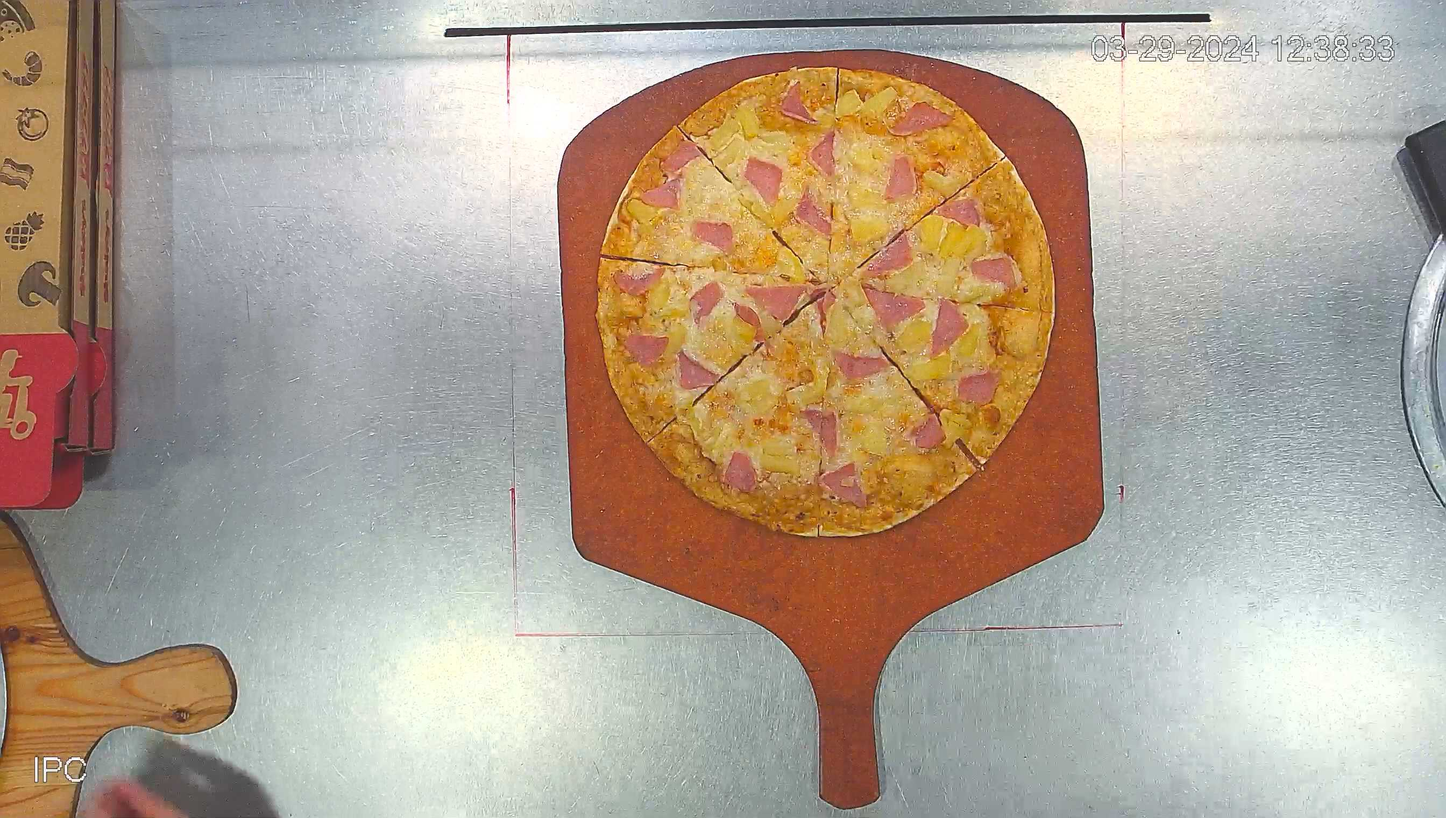manager_choice: (597, 69, 1053, 538)
